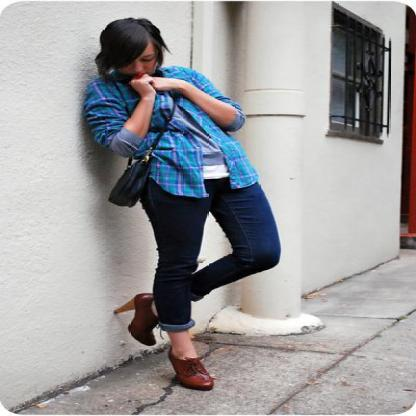bag: (108, 151, 155, 207)
jacket: (214, 96, 240, 110)
pants: (142, 176, 280, 341)
shirt: (80, 58, 257, 197), (187, 111, 234, 178)
shoe: (115, 294, 211, 390)
